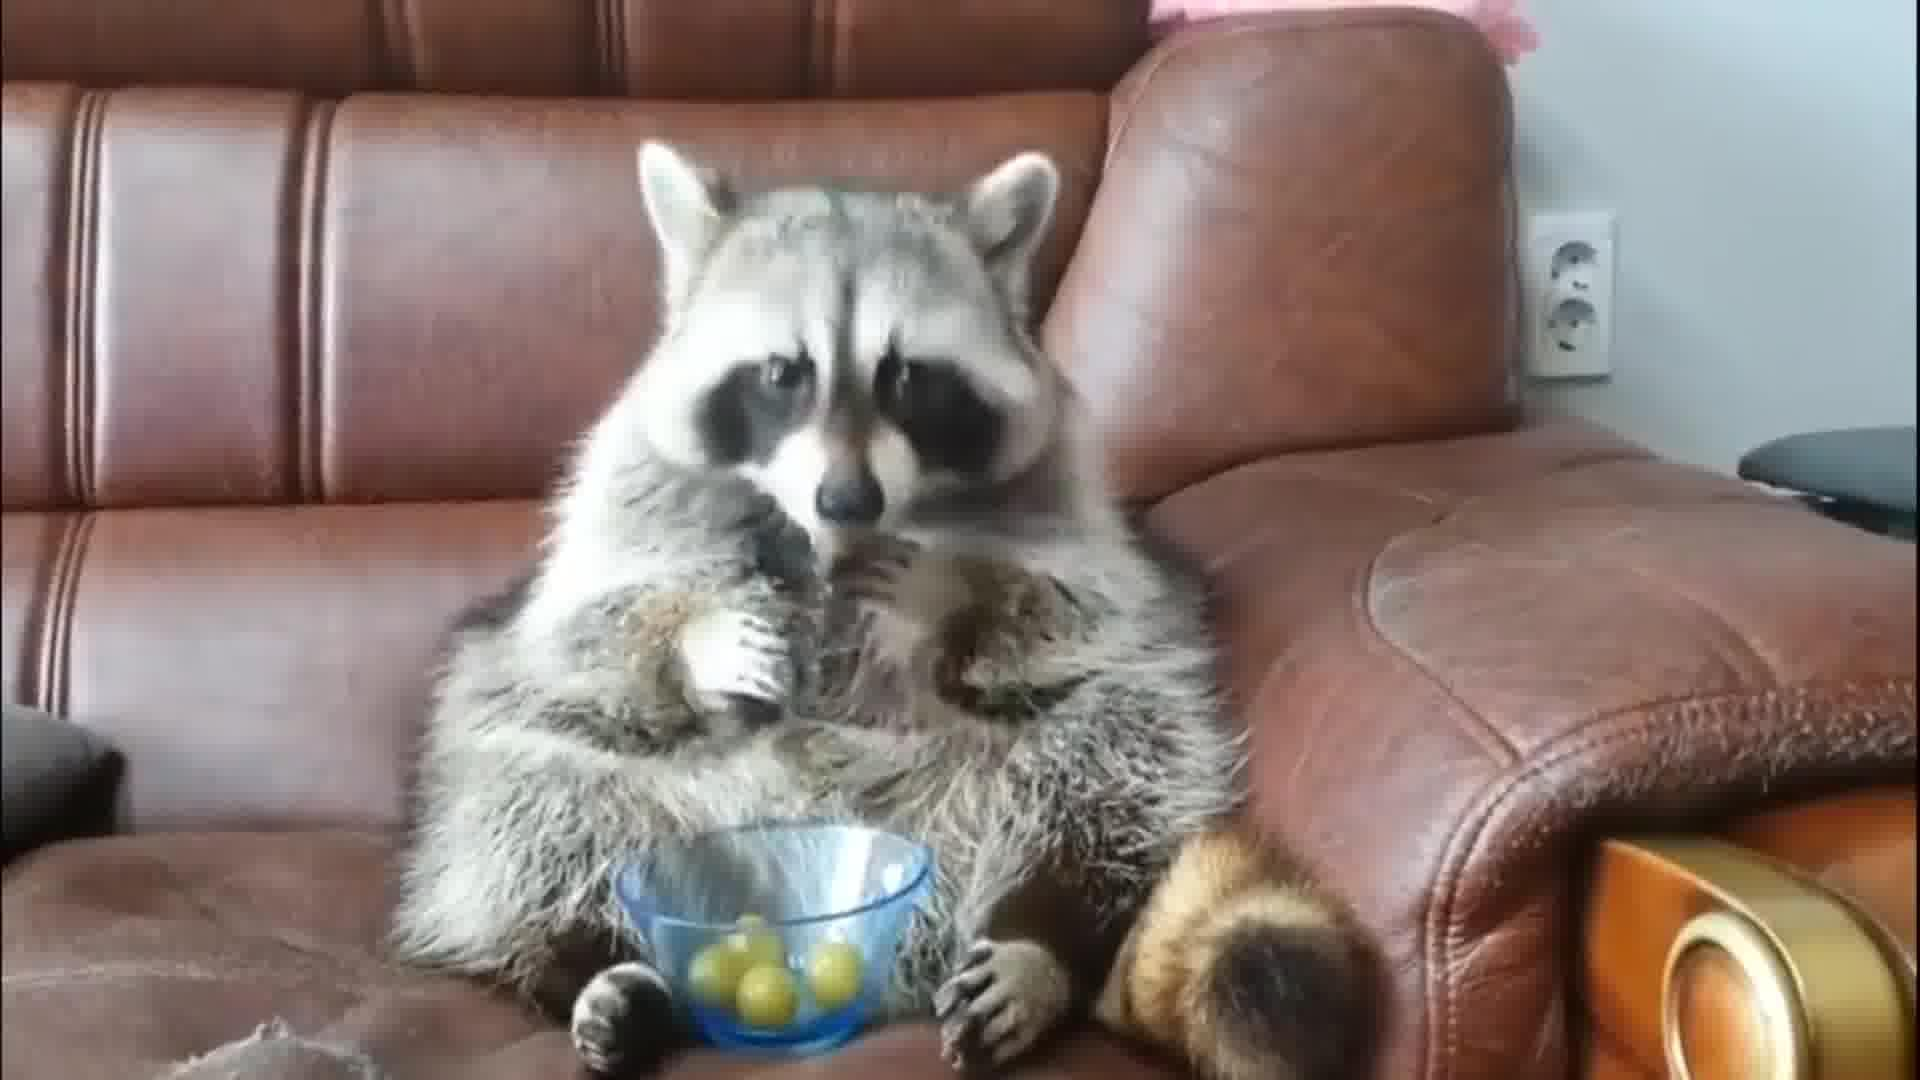raccoon: (406, 132, 1404, 1080)
